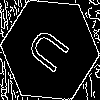U: (25, 25, 79, 81)
